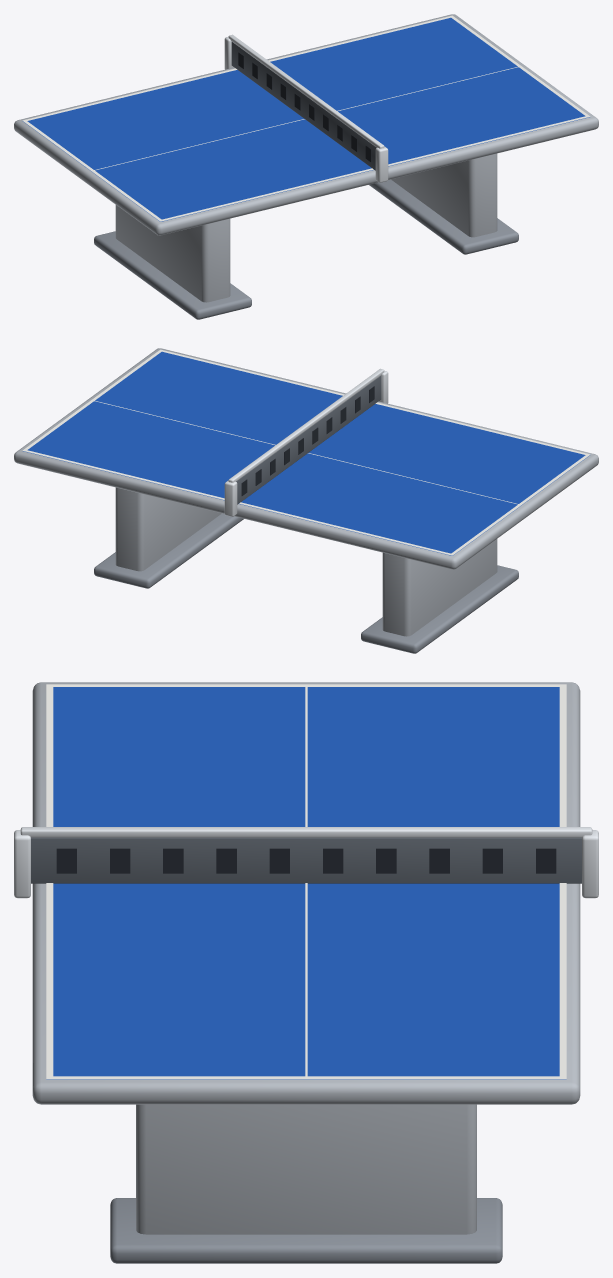
File: mesa_pingue_pongue.glb
The picture shows the model from 3 angles, top to bottom: view 1: azimuth 30°, elevation 25°; view 2: azimuth 150°, elevation 25°; view 3: azimuth 270°, elevation 25°; orthographic projection. The views are drawn at different scales.
Visible parts, largest first — view 1: mesa_pingue_pongue; view 2: mesa_pingue_pongue; view 3: mesa_pingue_pongue.
Part boxes in pixels (bbox=[...]): mesa_pingue_pongue: bbox=[14, 14, 598, 319]; mesa_pingue_pongue: bbox=[14, 348, 598, 653]; mesa_pingue_pongue: bbox=[14, 682, 598, 1263].
Size of the model in its own units: 2.82 by 0.935 by 1.72.
1 material, 1 textured.
